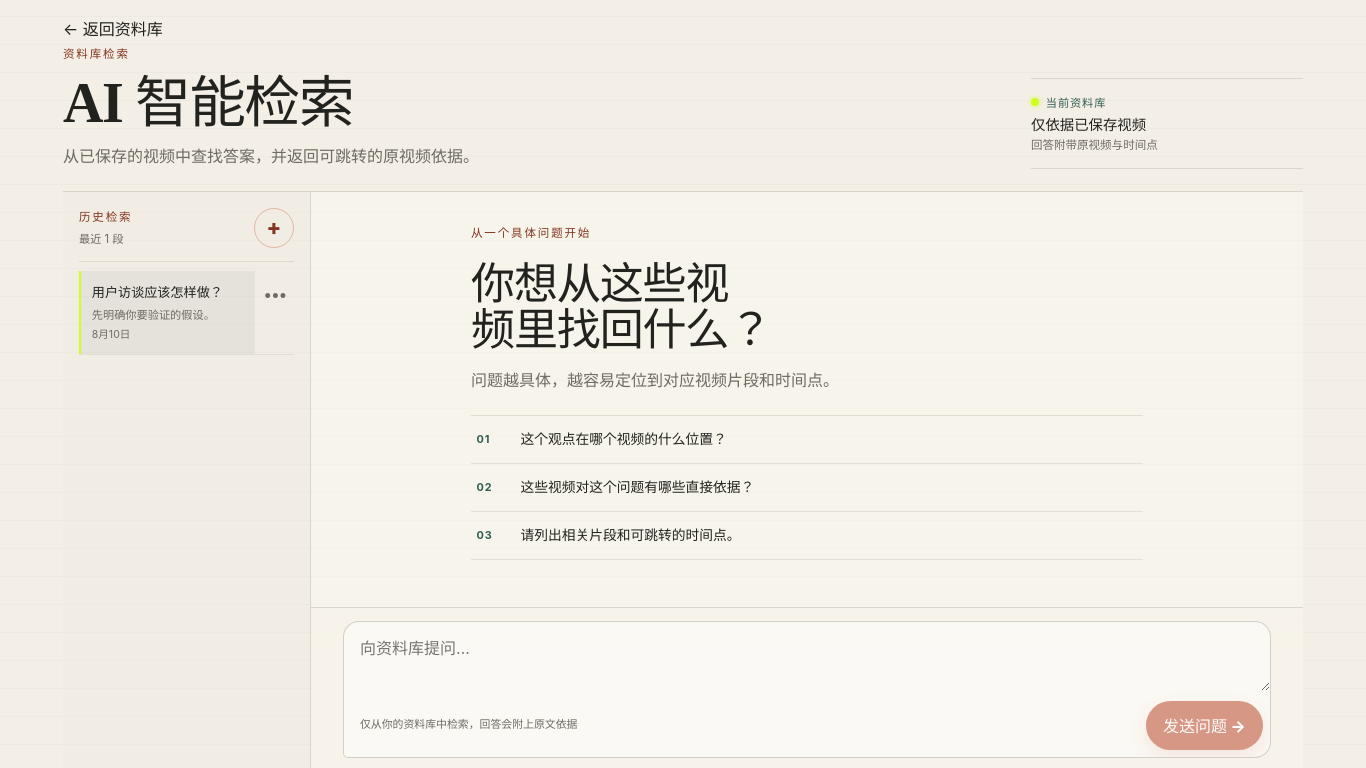
AI search chat page › fills the composer from a concrete example question
This screenshot has width=1366, height=768.
Click the button "01 这个观点在哪个视频的什么位置？": (624, 439) [471,416,1143,464]
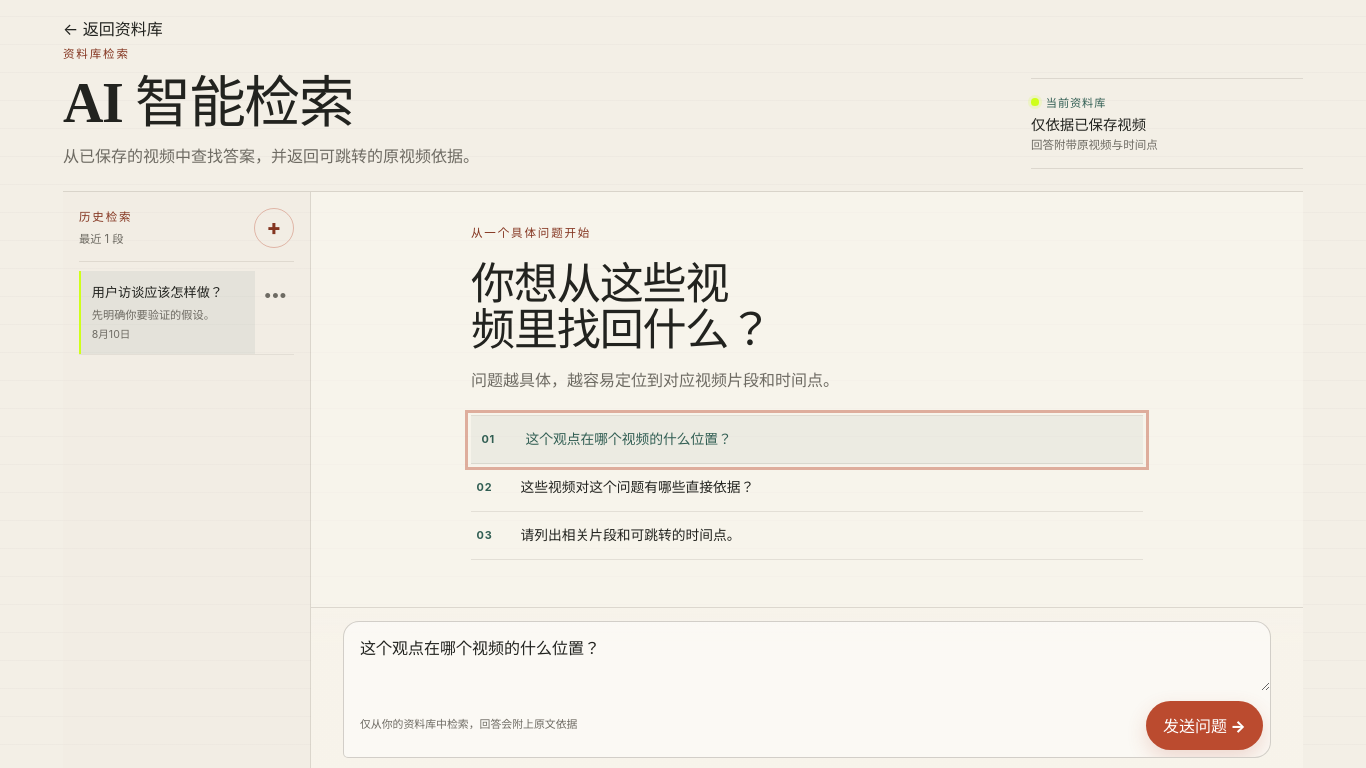
Expected: the text box named "向资料库提问" holds "这个观点在哪个视频的什么位置？", [344,622,1270,691]
